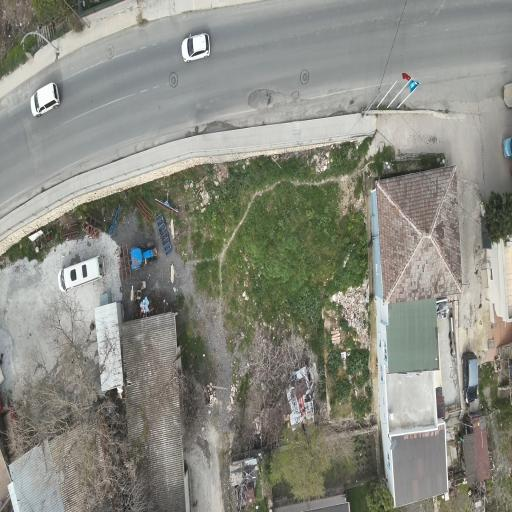car: (58, 255, 105, 291), (31, 83, 59, 117), (462, 352, 478, 404), (182, 34, 209, 62), (130, 243, 158, 270), (503, 138, 511, 158)
